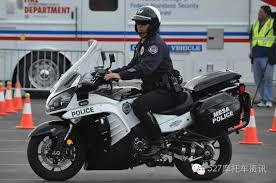helmet: (132, 5, 162, 26)
